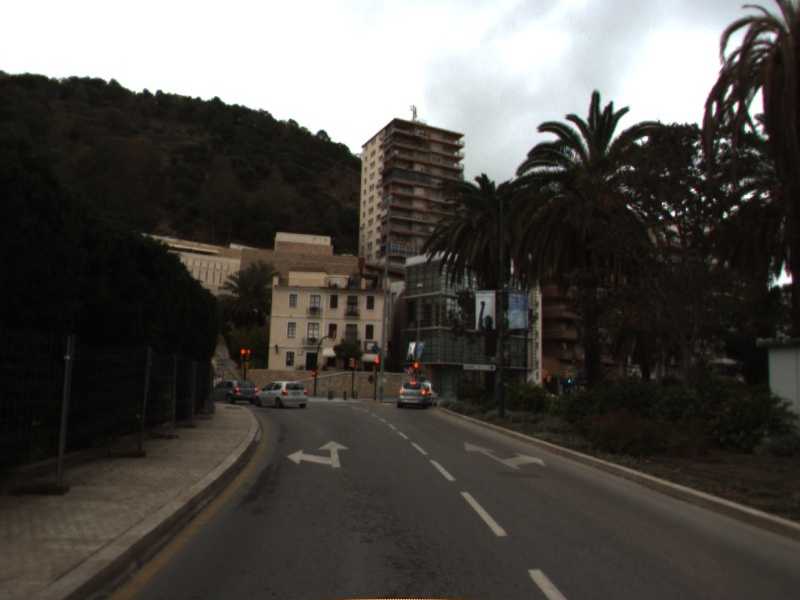STRAIGHT_LEFT: (285, 439, 351, 469)
STRAIGHT_RIGHT: (462, 439, 547, 471)
